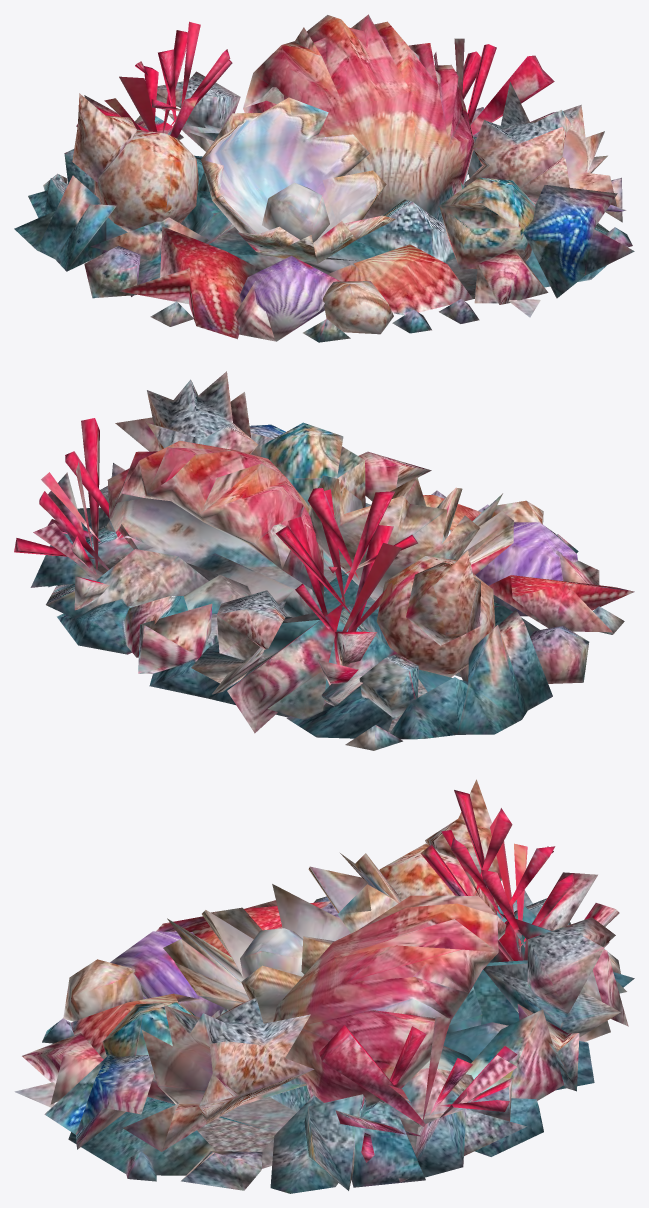
Rendered from shell.glb.
3 views of the same model, one above another, from view 1: azimuth 30°, elevation 25°; view 2: azimuth 150°, elevation 25°; view 3: azimuth 270°, elevation 25° (orthographic). The views are drawn at different scales.
Size of the model in its own units: 1 by 0.3828 by 0.9609.
1 material, 1 textured.
